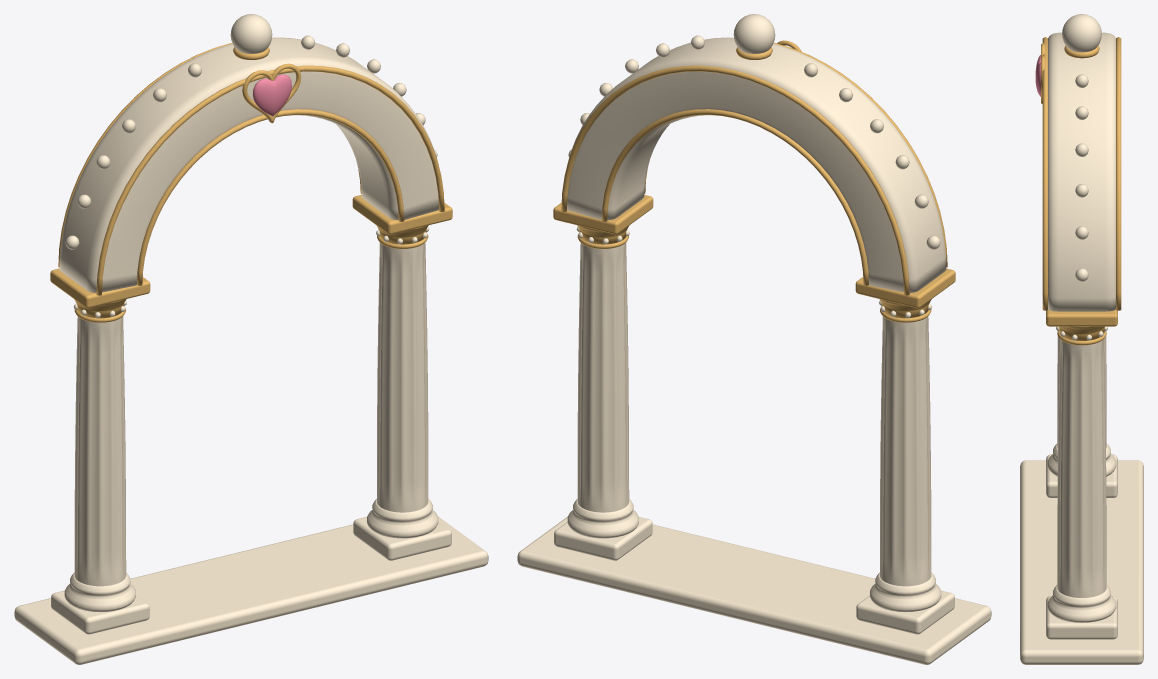
Rendered from pearl-arch.glb.
The picture shows the model from 3 angles, left to right: view 1: azimuth 30°, elevation 25°; view 2: azimuth 150°, elevation 25°; view 3: azimuth 270°, elevation 25°; orthographic projection. The views are drawn at different scales.
Visible parts, largest first — view 1: PearlArch; view 2: PearlArch; view 3: PearlArch.
Part boxes in pixels (bbox=[...]): PearlArch: bbox=[14, 14, 488, 664]; PearlArch: bbox=[517, 14, 991, 664]; PearlArch: bbox=[1020, 14, 1143, 664].
Size of the model in its own units: 3.89 by 5.19 by 1.05.
